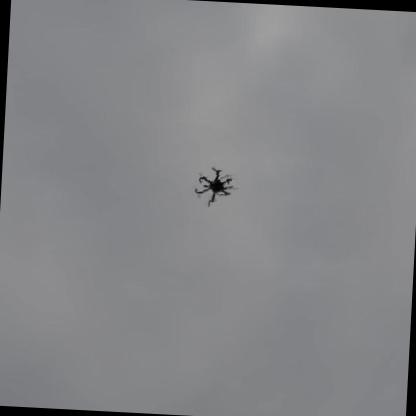drone: (187, 157, 246, 208)
